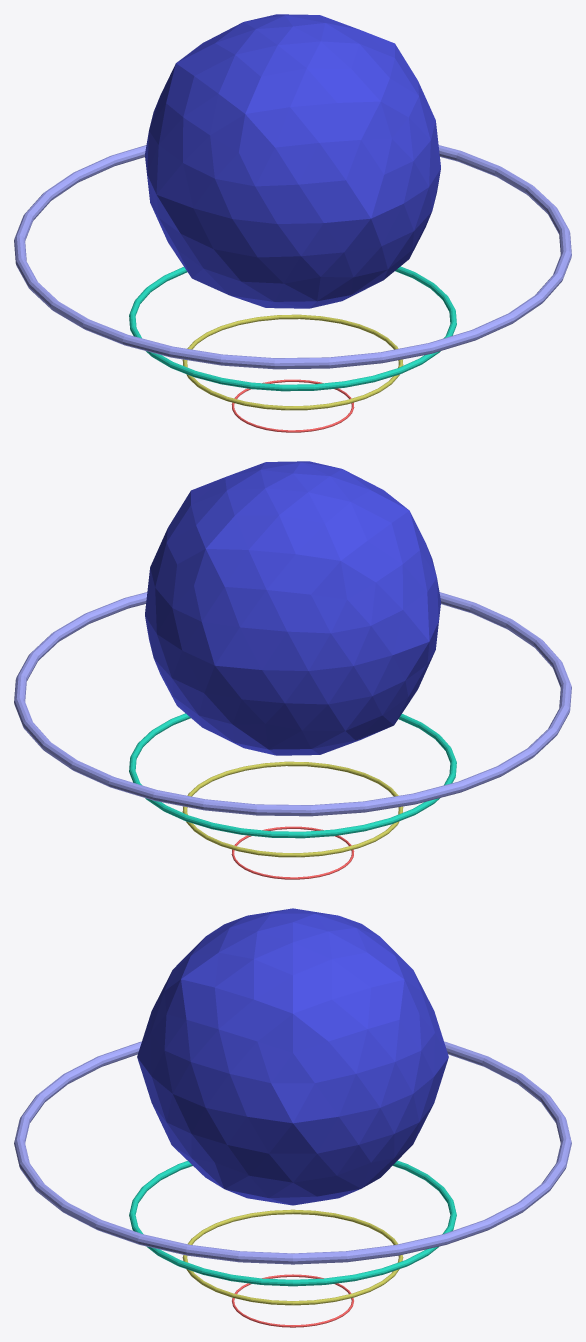
The model's file is balance down.fbx.
The picture shows the model from 3 angles, top to bottom: view 1: azimuth 30°, elevation 25°; view 2: azimuth 150°, elevation 25°; view 3: azimuth 270°, elevation 25°; orthographic projection.
Parts seen in each view (by area): view 1: flat_art_ring__out_001; view 2: flat_art_ring__out_001; view 3: flat_art_ring__out_001.
Part boxes in pixels (x1,y1,x2,y2): flat_art_ring__out_001: (14,14,571,432); flat_art_ring__out_001: (14,461,571,879); flat_art_ring__out_001: (14,908,571,1327).
Size of the model in its own units: 91.72 by 68.9 by 91.72.
